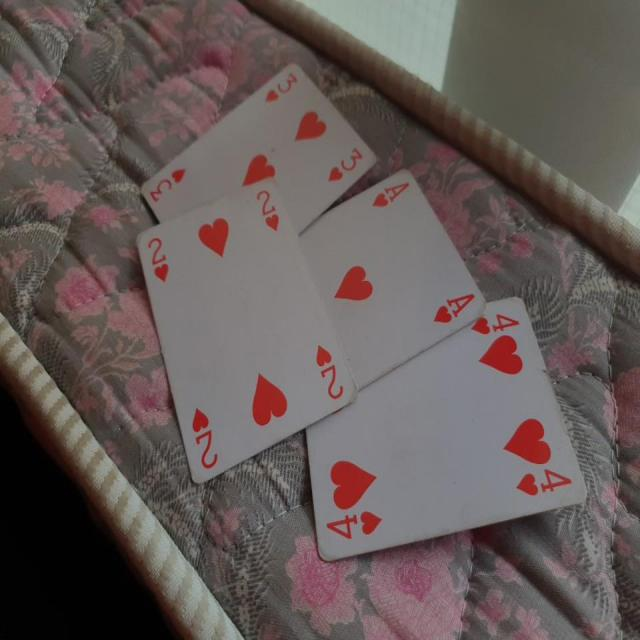2 Hearts: (134, 184, 363, 485)
3 Hearts: (136, 58, 372, 231)
4 Hearts: (300, 289, 593, 548)
A Hearts: (260, 167, 492, 405)
